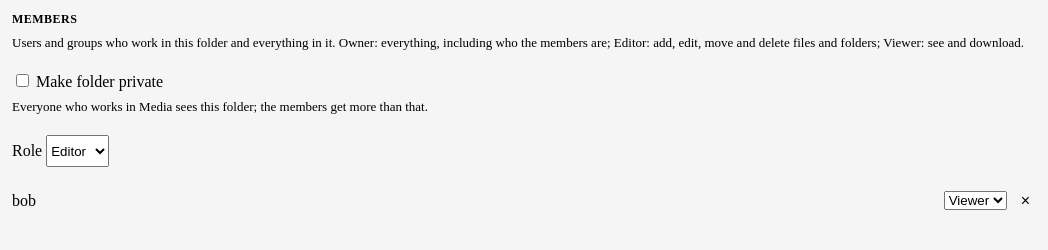
Test: the members of a Media folder › give the error back and keep the members as they were
Expected: the text "bob" is shown, 12,192 -> 36,208
Click the checkbox labelled "Make folder private" at (22,80), box 16,74 -> 29,87
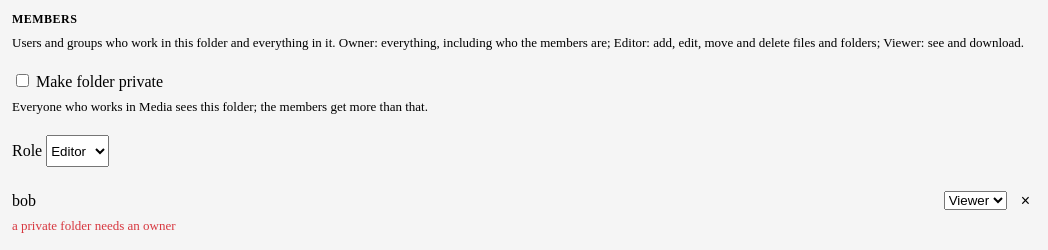
Result: the text "a private folder needs an owner" is shown at 12,218 -> 176,233
